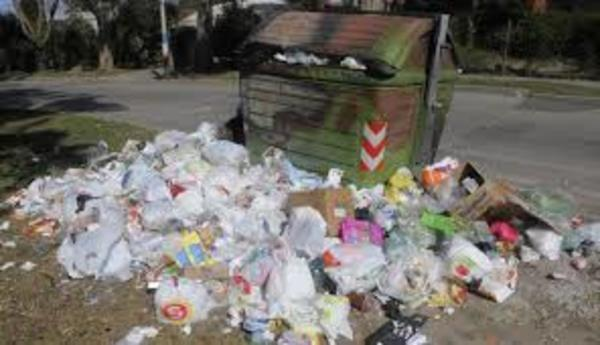Dechets: (21, 124, 240, 334), (384, 164, 599, 322), (229, 173, 383, 344), (204, 139, 326, 309), (337, 166, 423, 236), (365, 305, 427, 344), (121, 323, 160, 345), (273, 51, 331, 64), (364, 58, 396, 79), (339, 57, 366, 69)
Trash: (240, 13, 452, 183)
